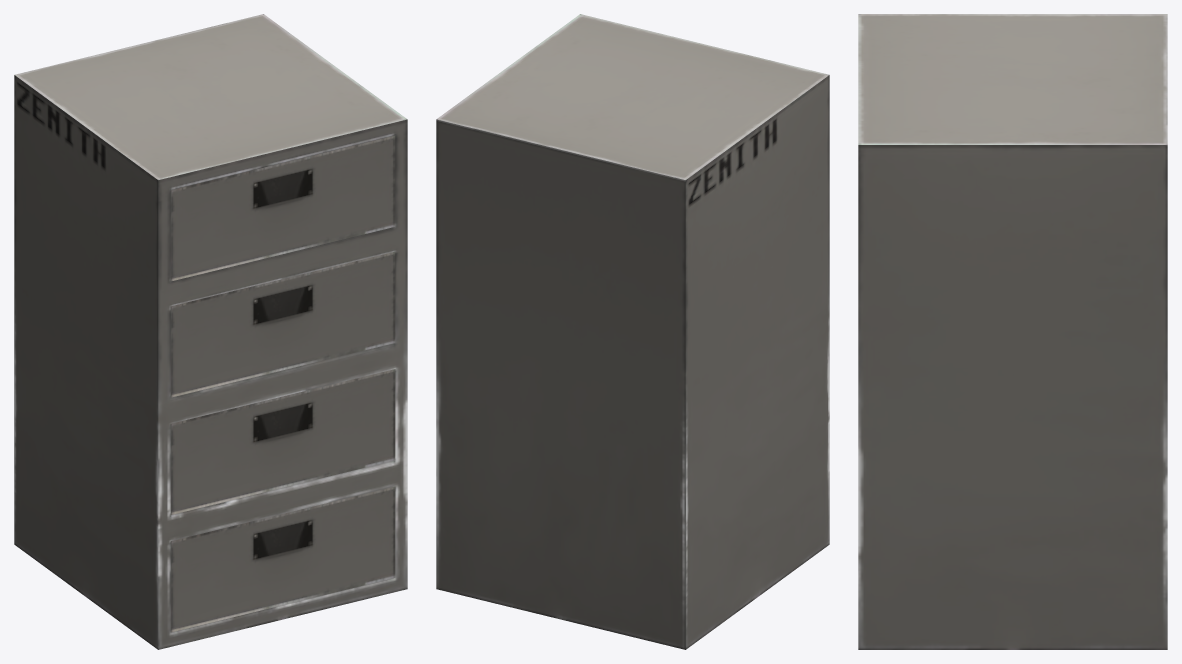
The model's file is FilingCabinet_Separated.fbx.
The picture shows the model from 3 angles, left to right: view 1: azimuth 30°, elevation 25°; view 2: azimuth 150°, elevation 25°; view 3: azimuth 270°, elevation 25°; orthographic projection. The views are drawn at different scales.
Visible parts, largest first — view 1: Body, Drawer1, Drawer2, Drawer4, Drawer3; view 2: Body; view 3: Body.
Part boxes in pixels (x1,y1,x2,y2): Body: (14, 14, 407, 649); Drawer1: (170, 135, 395, 281); Drawer2: (170, 251, 395, 397); Drawer4: (170, 486, 395, 632); Drawer3: (170, 369, 395, 514); Body: (436, 14, 829, 649); Body: (858, 14, 1167, 649).
Size of the model in its own units: 1 by 1.8 by 1.
